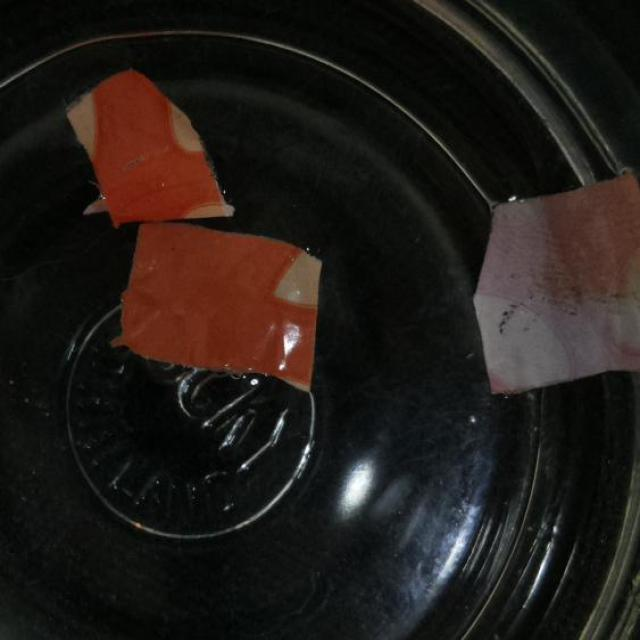fiber: (112, 220, 320, 400), (466, 174, 639, 385), (56, 50, 244, 223)
